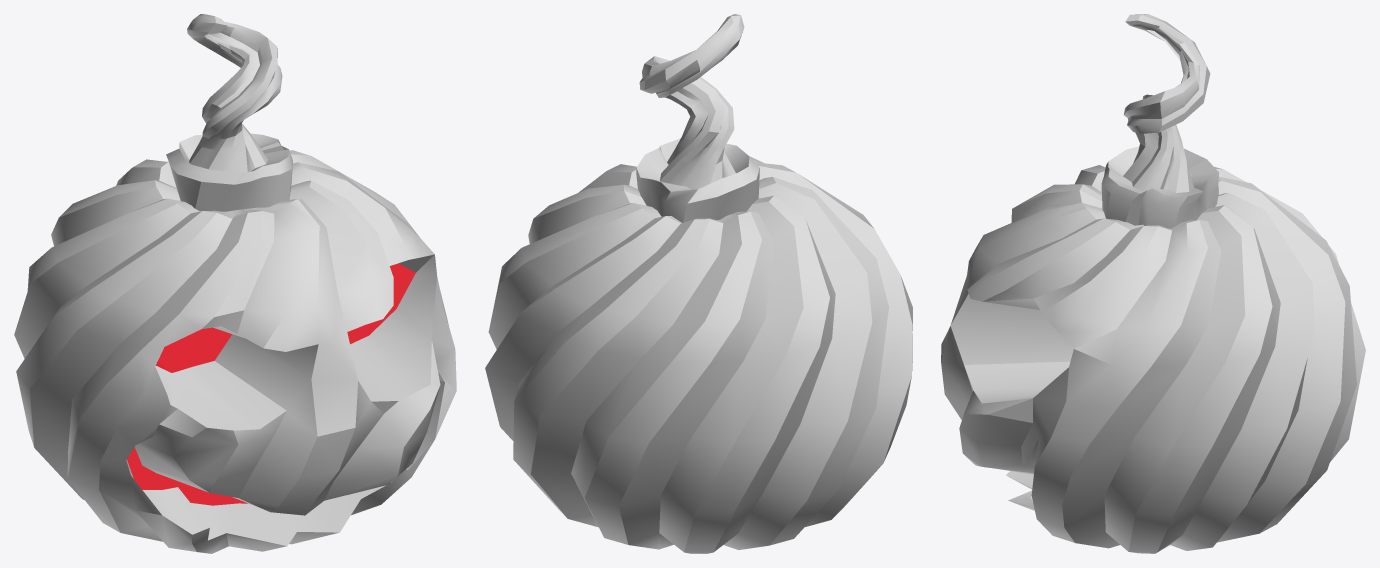
The model's file is EA_Pumpkin_01b.glb.
3 renders of one model, left to right at view 1: azimuth 30°, elevation 25°; view 2: azimuth 150°, elevation 25°; view 3: azimuth 270°, elevation 25°, orthographic. The views are drawn at different scales.
Parts seen in each view (by area): view 1: EA_Pumpkin_01b; view 2: EA_Pumpkin_01b; view 3: EA_Pumpkin_01b.
Boxes of the visible parts, <box> form: EA_Pumpkin_01b: <box>14,14,456,553</box>; EA_Pumpkin_01b: <box>485,14,912,553</box>; EA_Pumpkin_01b: <box>941,14,1365,553</box>.
Bounding box in the file's own units: 2.09 × 2.74 × 2.1.
